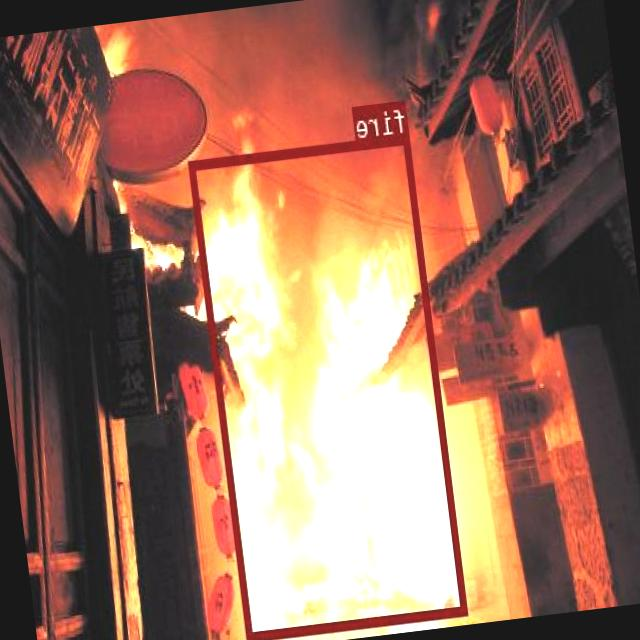fire: (190, 134, 468, 638)
